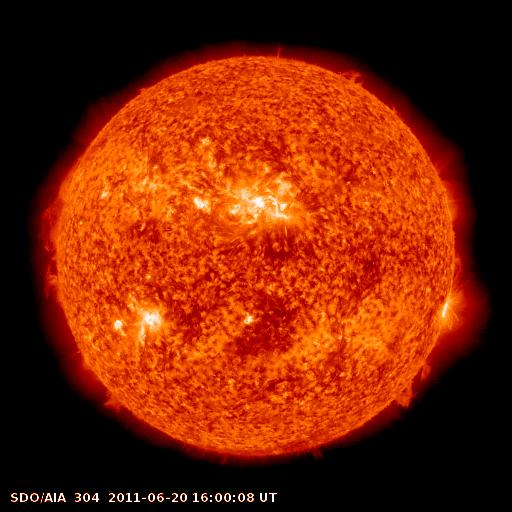prominence: (32, 155, 86, 302), (386, 356, 439, 415), (329, 55, 371, 93), (92, 379, 129, 422), (443, 248, 472, 283)
